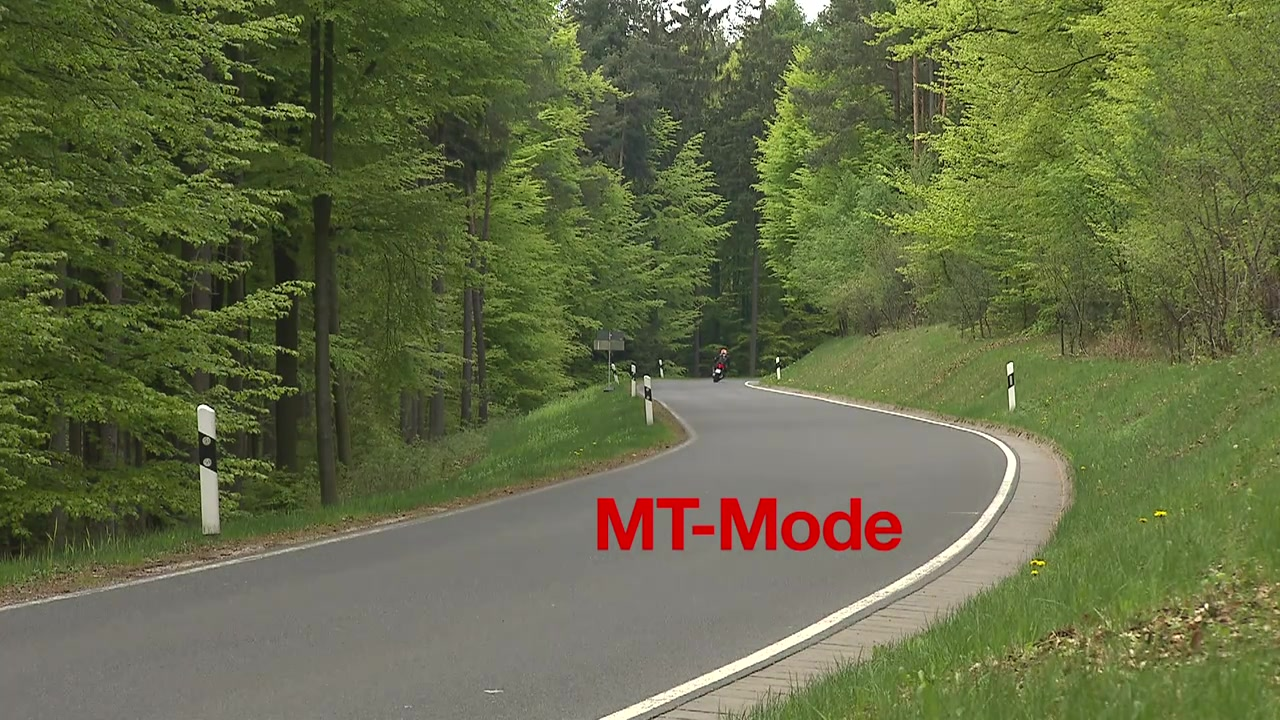motorbike: (712, 352, 733, 387)
